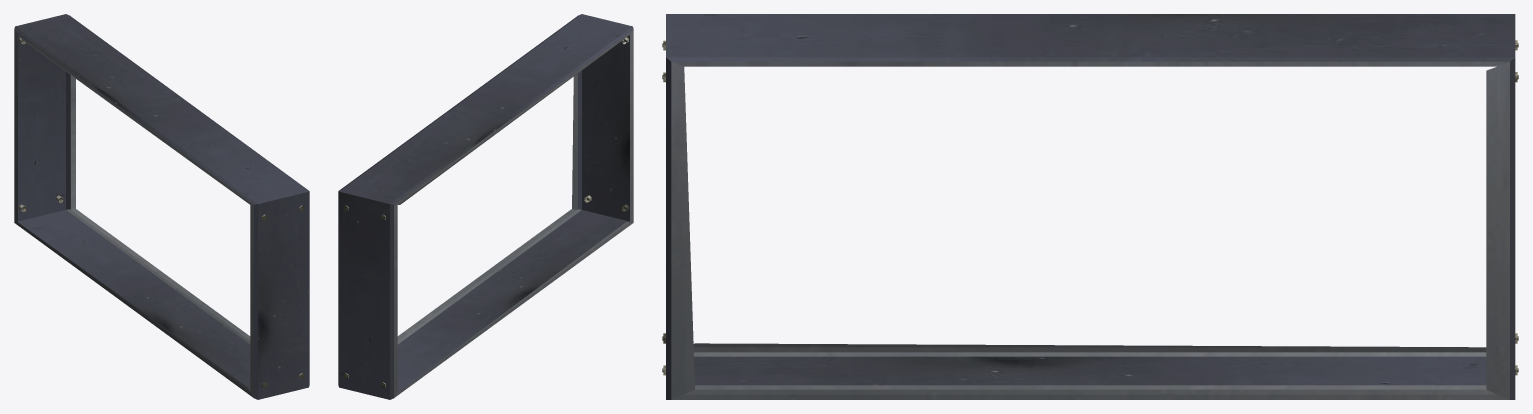
3 renders of one model, left to right at view 1: azimuth 30°, elevation 25°; view 2: azimuth 150°, elevation 25°; view 3: azimuth 270°, elevation 25°, orthographic. The views are drawn at different scales.
Parts seen in each view (by area): view 1: theatresign; view 2: theatresign; view 3: theatresign.
Part boxes in pixels (bbox=[...]): theatresign: bbox=[14, 14, 309, 399]; theatresign: bbox=[338, 14, 633, 399]; theatresign: bbox=[662, 14, 1518, 399].
Size of the model in its own units: 35.73 by 120 by 271.
Materials: 1 (1 with a texture image).
